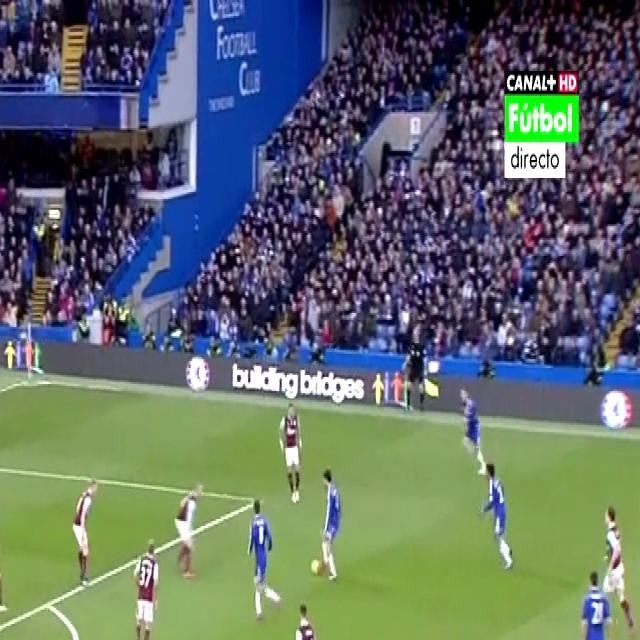referee: (404, 311, 439, 425)
soccer-player: (476, 456, 522, 572), (242, 486, 280, 626), (311, 460, 348, 591), (600, 497, 634, 635), (67, 467, 103, 597), (167, 468, 205, 586), (128, 531, 166, 640), (277, 394, 309, 511), (570, 560, 613, 640), (460, 378, 490, 480), (286, 597, 330, 640), (0, 476, 9, 620)
